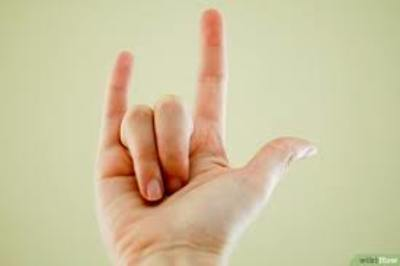closedhandfront: (75, 98, 237, 263)
mindinho: (94, 42, 131, 138)
